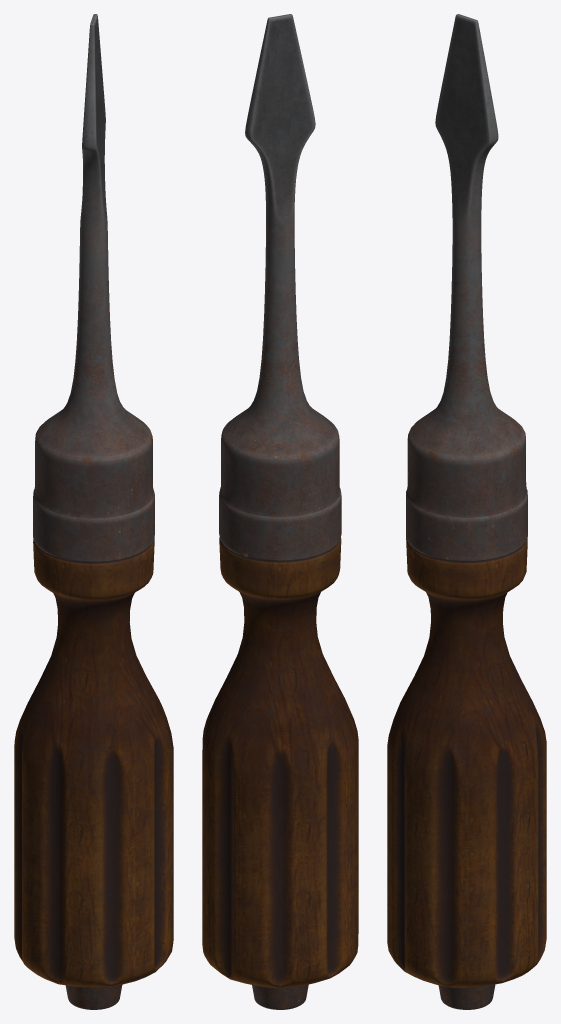
The model's file is screwdriver-world.glb.
The picture shows the model from 3 angles, left to right: view 1: azimuth 30°, elevation 25°; view 2: azimuth 150°, elevation 25°; view 3: azimuth 270°, elevation 25°; orthographic projection.
Visible parts, largest first — view 1: Screwdriver; view 2: Screwdriver; view 3: Screwdriver.
Part boxes in pixels (left/top/right/bottom): Screwdriver: left=14, top=14, right=173, bottom=1009; Screwdriver: left=202, top=14, right=358, bottom=1009; Screwdriver: left=387, top=14, right=546, bottom=1009.
Size of the model in its own units: 0.1 by 0.68 by 0.1.
1 material, 1 textured.
